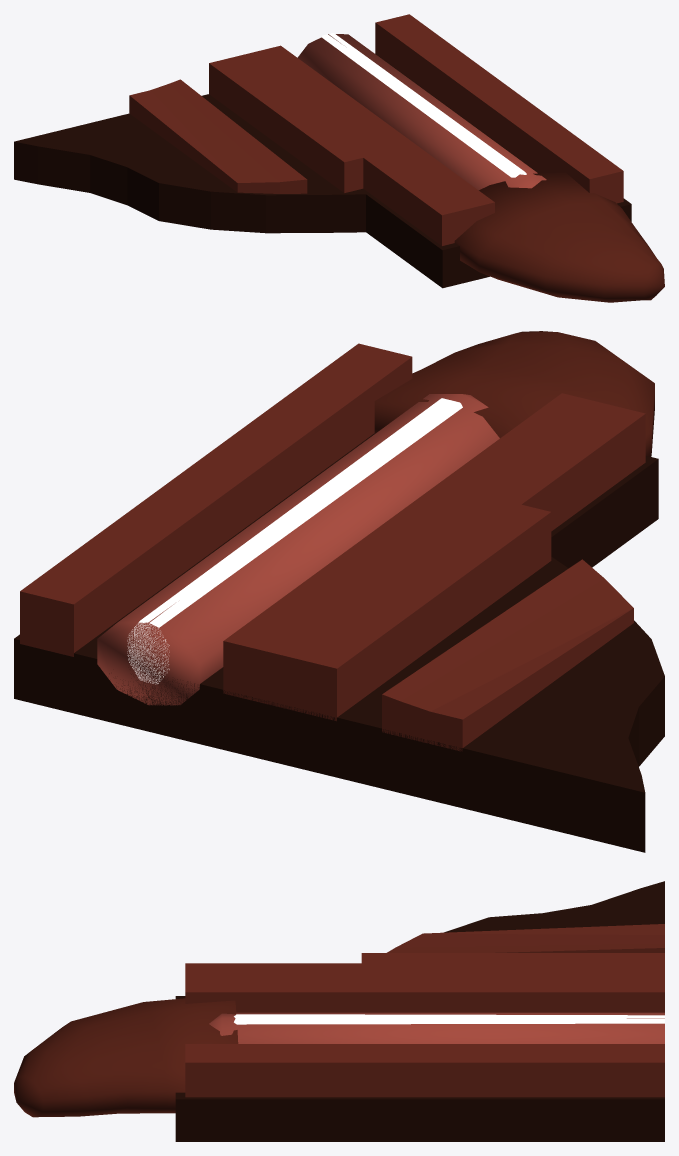
Rendered from newshf-270.glb.
The picture shows the model from 3 angles, top to bottom: view 1: azimuth 30°, elevation 25°; view 2: azimuth 150°, elevation 25°; view 3: azimuth 270°, elevation 25°; orthographic projection. The views are drawn at different scales.
Parts seen in each view (by area): view 1: newshf-270; view 2: newshf-270; view 3: newshf-270.
Part boxes in pixels (x1,y1,x2,y2): newshf-270: (14, 14, 664, 302); newshf-270: (14, 331, 664, 852); newshf-270: (14, 881, 664, 1141).
Bounding box in the file's own units: 1.76 × 0.2931 × 2.22.
